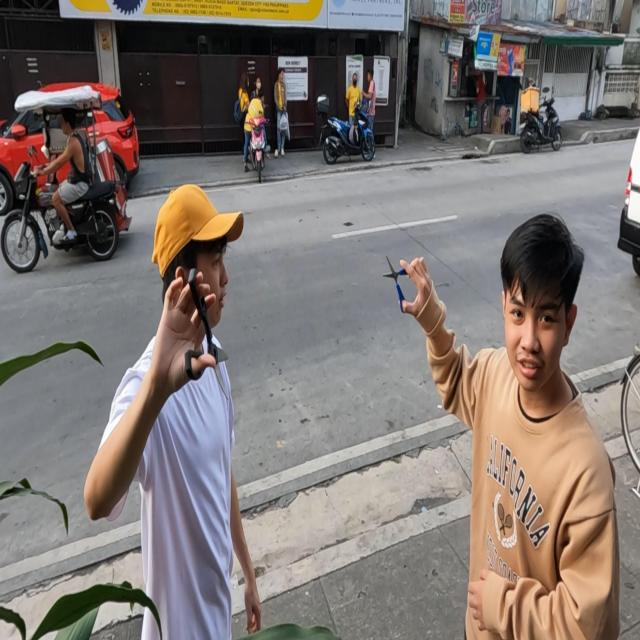scissor: (185, 267, 228, 403), (383, 254, 414, 317)
